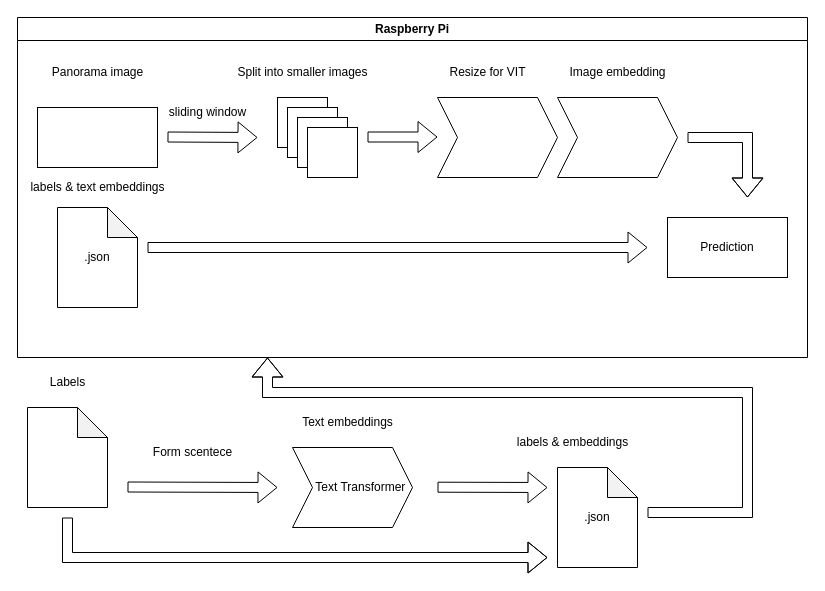
Image size: 825x591. Some labels were removed from this diagram. Here are the shapes that lost their labels. From the top down, the box of each, then its label:
(436, 96, 558, 178): Image Preprocessing
(556, 96, 678, 178): VIT
